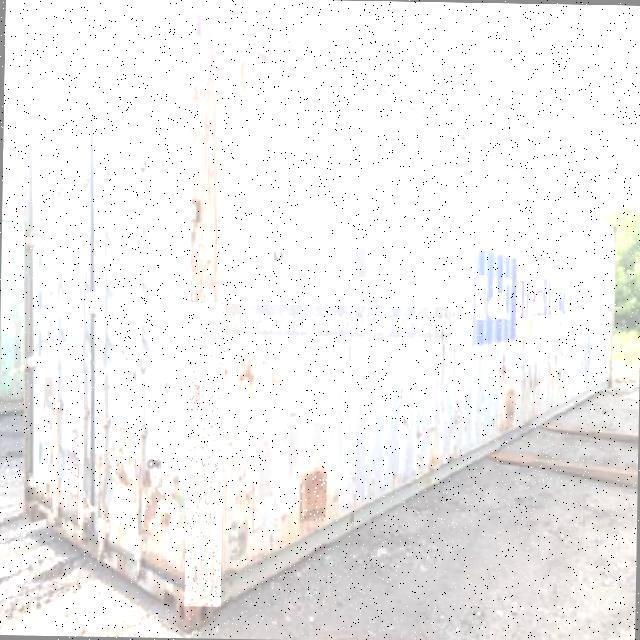Rust: (184, 302, 225, 606), (300, 471, 327, 520), (144, 487, 165, 529), (113, 488, 134, 526), (66, 466, 77, 494), (507, 390, 516, 418)
